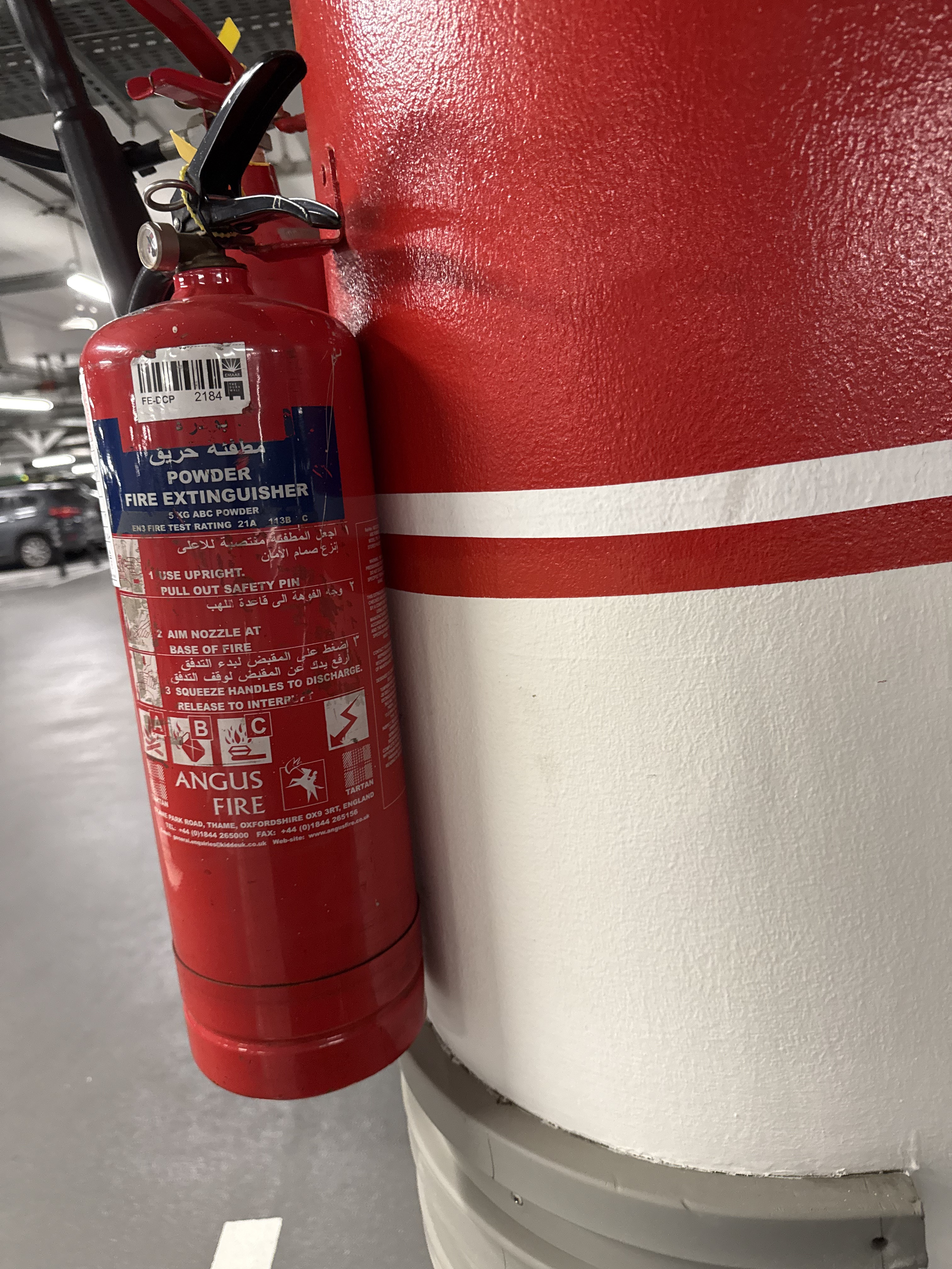fire_extinguisher: (12, 2, 429, 1102), (76, 23, 429, 1103)
